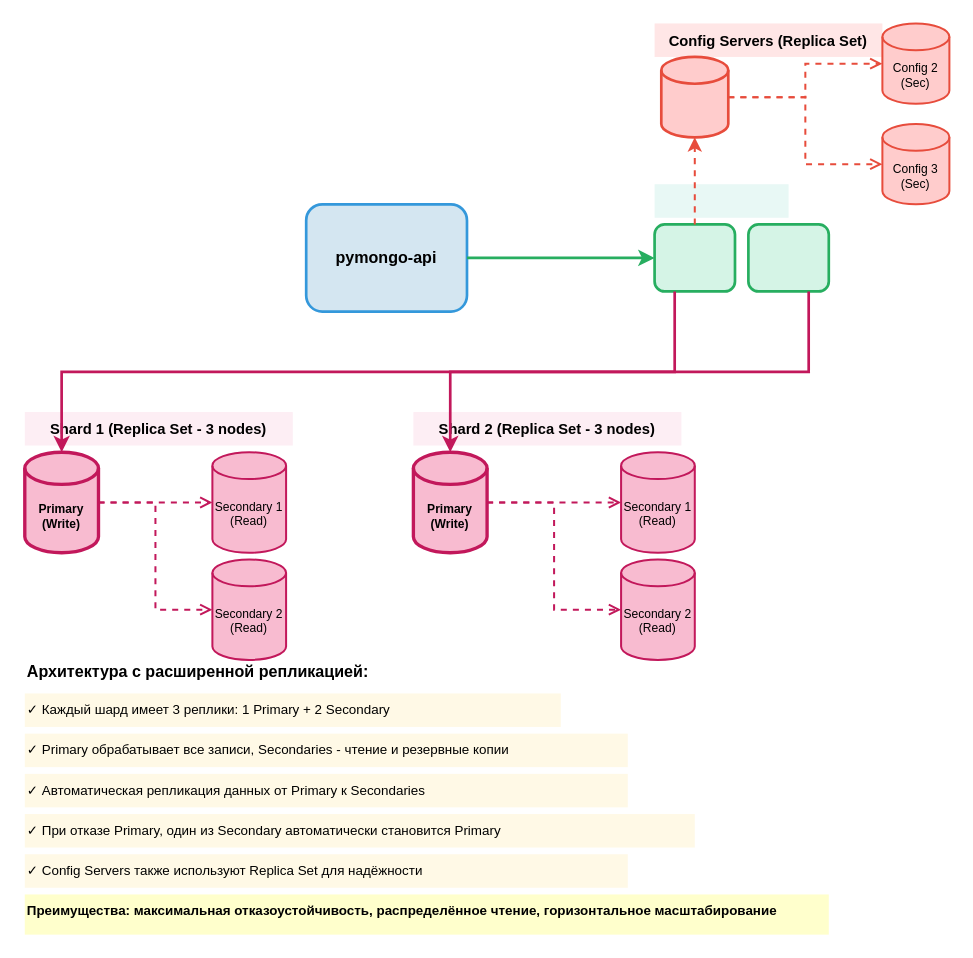
Some shapes in this 973 by 958 pixel diagram are drawn without their labels. Each missing label, with the centre of its shape:
"Config 1 (Primary)" belongs at point 694,96.
"Mongos 1" belongs at point 694,257.
"Mongos 2" belongs at point 787,257.
"Mongos Routers" belongs at point 721,200.
